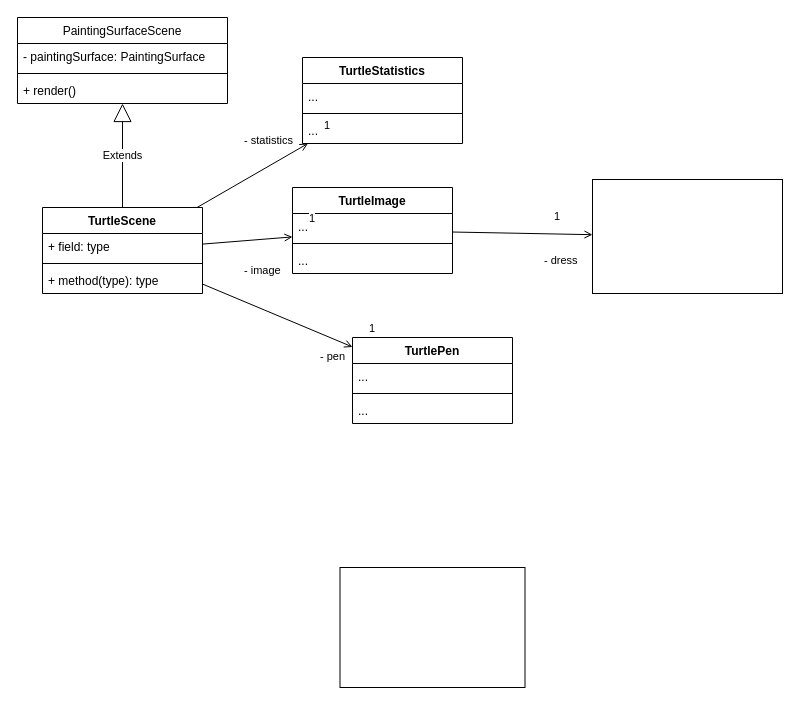
This 800x705 diagram has some shape labels left out. The shapes that lost their labels are listed below. From the top down, each one's centre as x and y in pixels, then its label:
pixel 687 236: <<Enumeration>> TurtleDress ANIMATED_IMAGE ARROW DOT
pixel 432 627: <<Interface>> ITurtle forward(distance: double) backward(distance: double)
